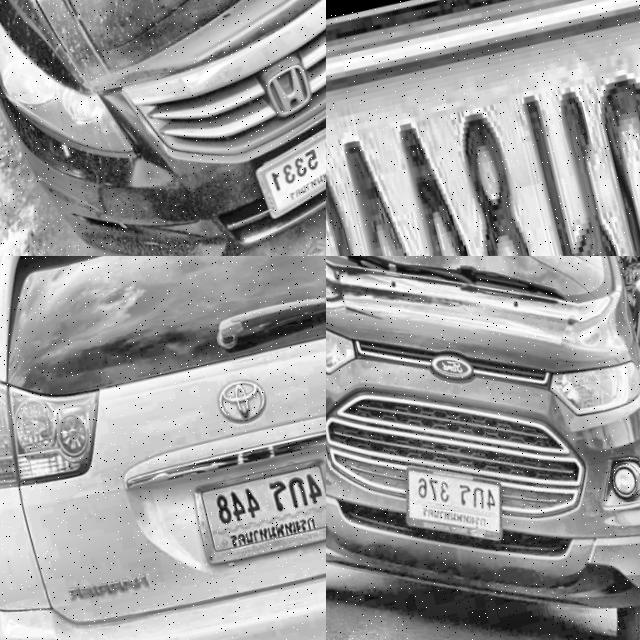license-plate: (326, 0, 640, 256), (186, 447, 326, 569), (393, 440, 516, 560), (244, 96, 326, 223)
